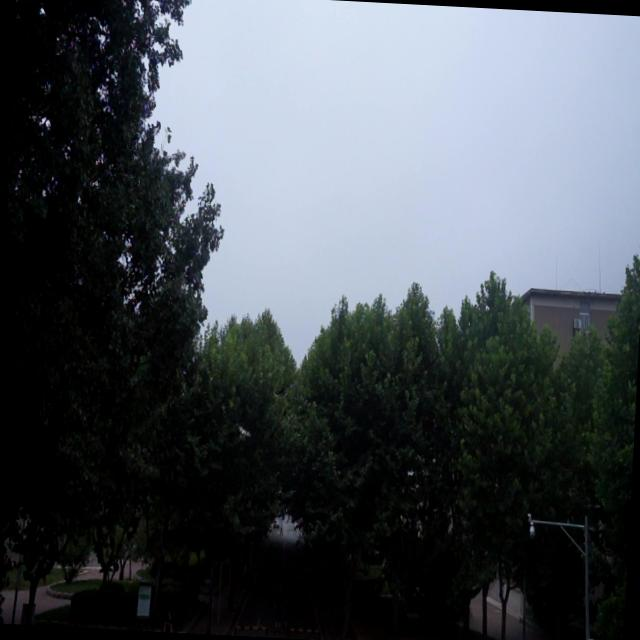drone: (233, 420, 254, 444)
